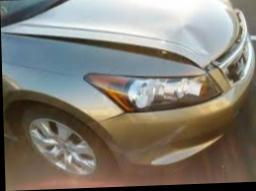Bonnet: (4, 0, 247, 70)
